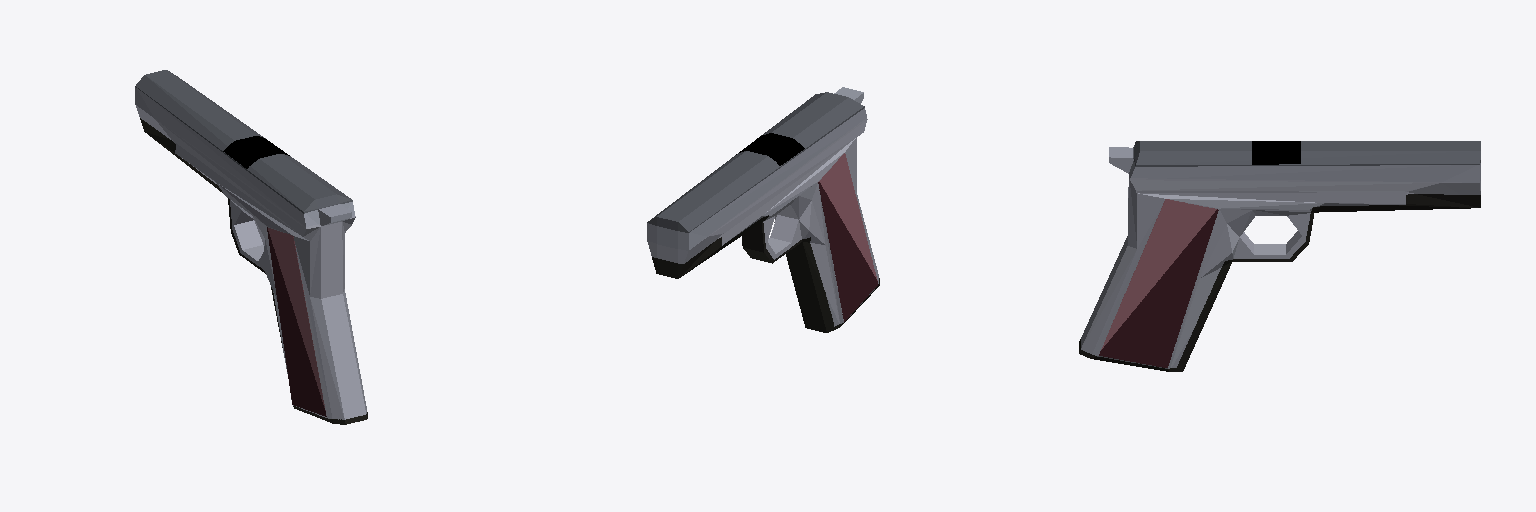
The picture shows the model from 3 angles: view 1: azimuth 30°, elevation 25°; view 2: azimuth 150°, elevation 25°; view 3: azimuth 270°, elevation 25°; orthographic projection.
Visible parts, largest first — view 1: Cube; view 2: Cube; view 3: Cube.
Part boxes in pixels (x1,y1,x2,y2): Cube: (135,70,367,424); Cube: (647,87,879,332); Cube: (1079,141,1480,371).
Bounding box in the file's own units: 1.21 × 5.19 × 8.59.
1 materials, 1 textured.